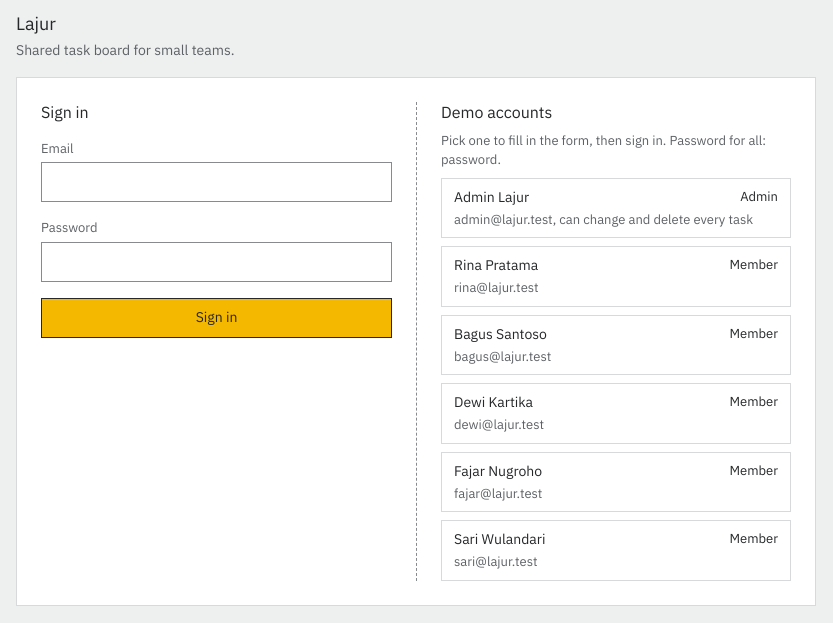
LoginView › shows the server message on wrong credentials
Type "a@b.c" into the field with id "email" at (216, 182), box [41,162,392,202]
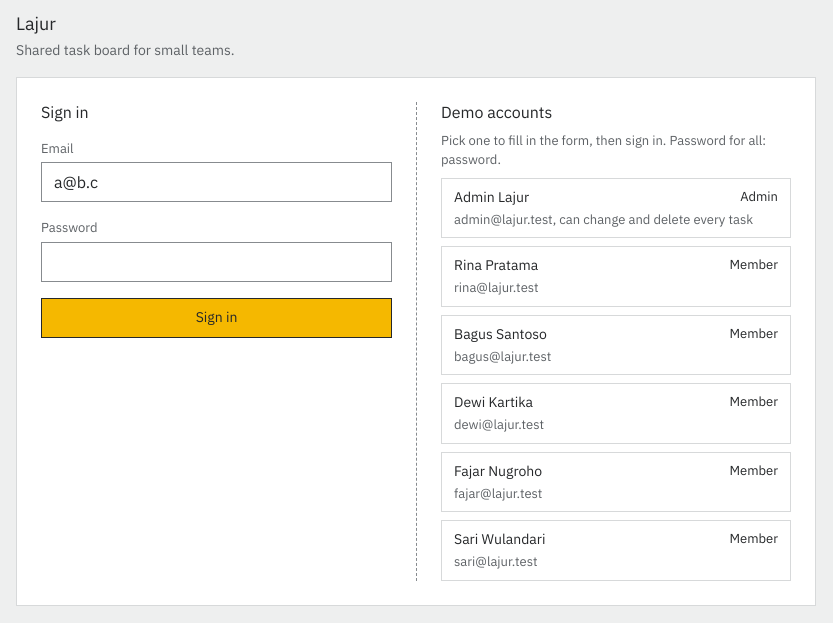
Type "nope" into the password field labelled "Password" at (216, 262), box [41,242,392,282]
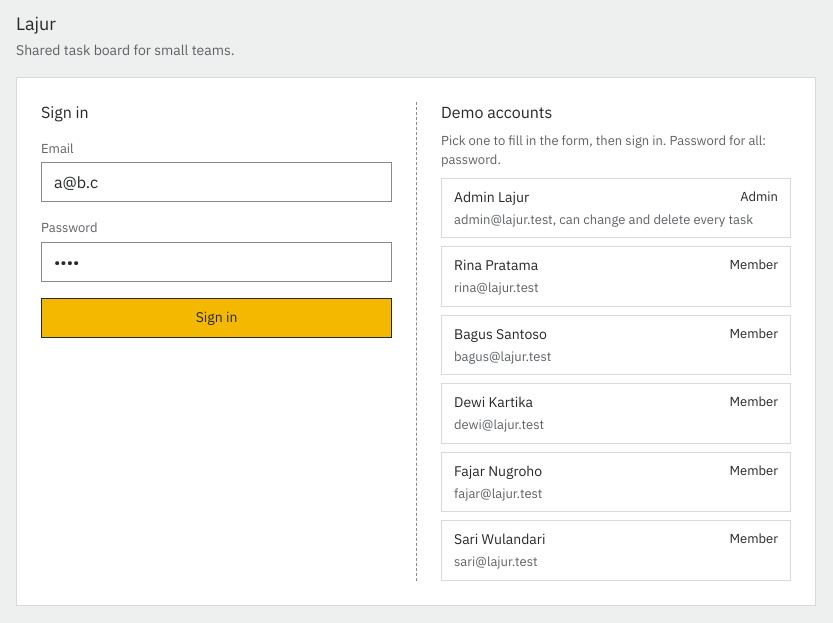
Submit the form, box [41,102,392,338]
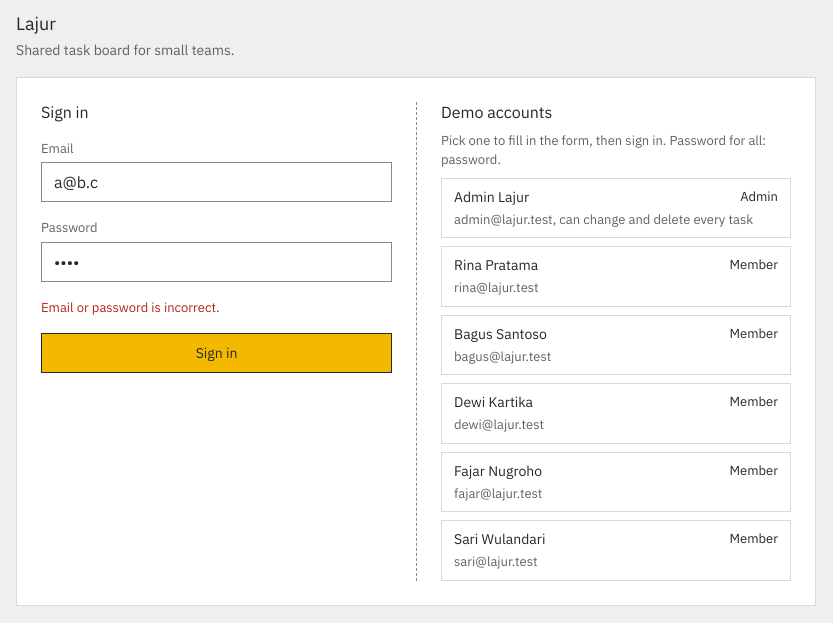
Check: the message "Email or password is incorrect." is shown, box [41,299,220,316]
